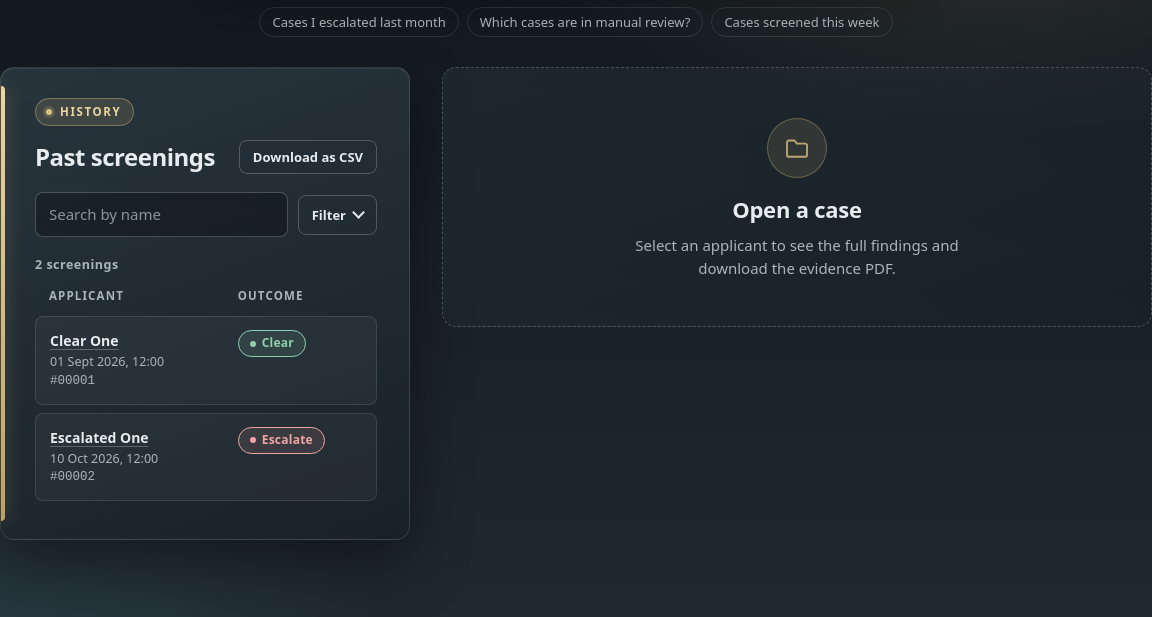
Test case: history layout › keeps every filter inside a collapsible Filter button and narrows the list
expect the button "Clear One" is shown: met, box [50, 330, 118, 352]
expect the button "Not reviewed" is not shown: met
Click the button "Filter": (337, 215) [298, 195, 377, 235]
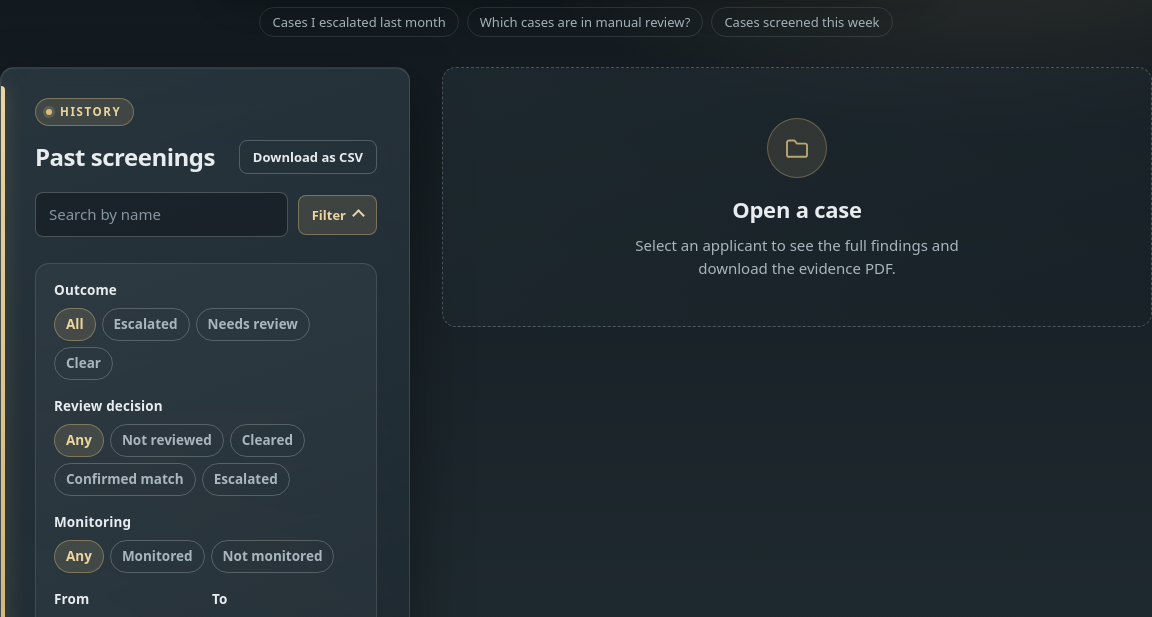
expect the button "Filter" is expanded: met, box [298, 195, 377, 235]
Click the 1st button "Escalated": (146, 325) [102, 308, 190, 341]
(page scrolled)
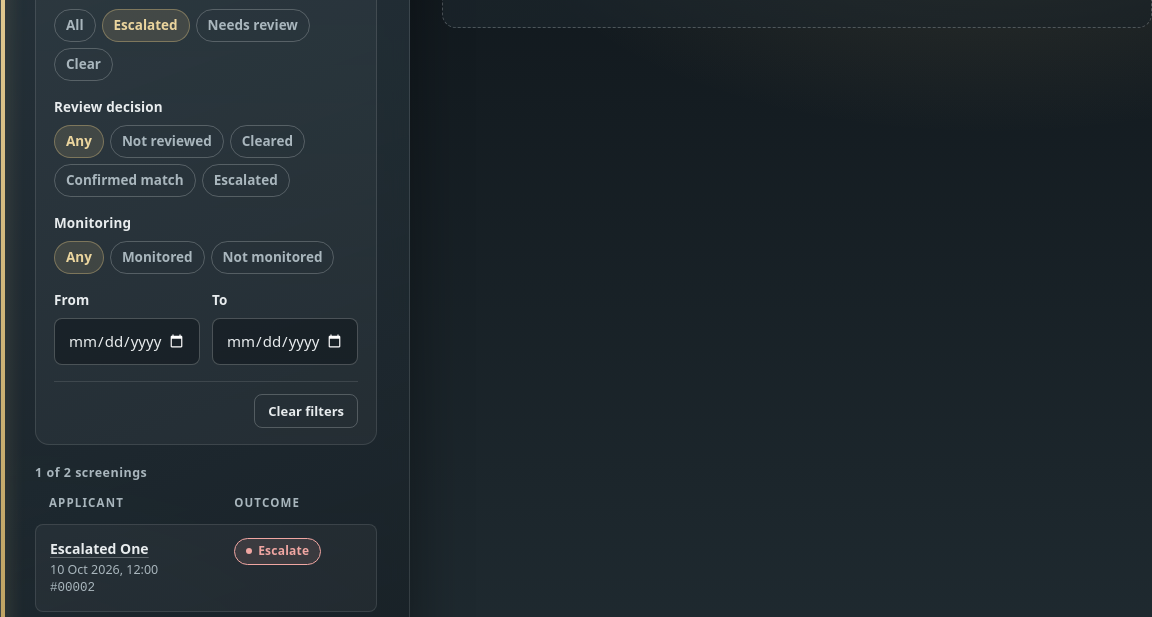
expect the button "Escalated One" is shown: met, box [50, 538, 149, 560]
Click the button "Clear filters": (306, 411) [254, 394, 358, 428]
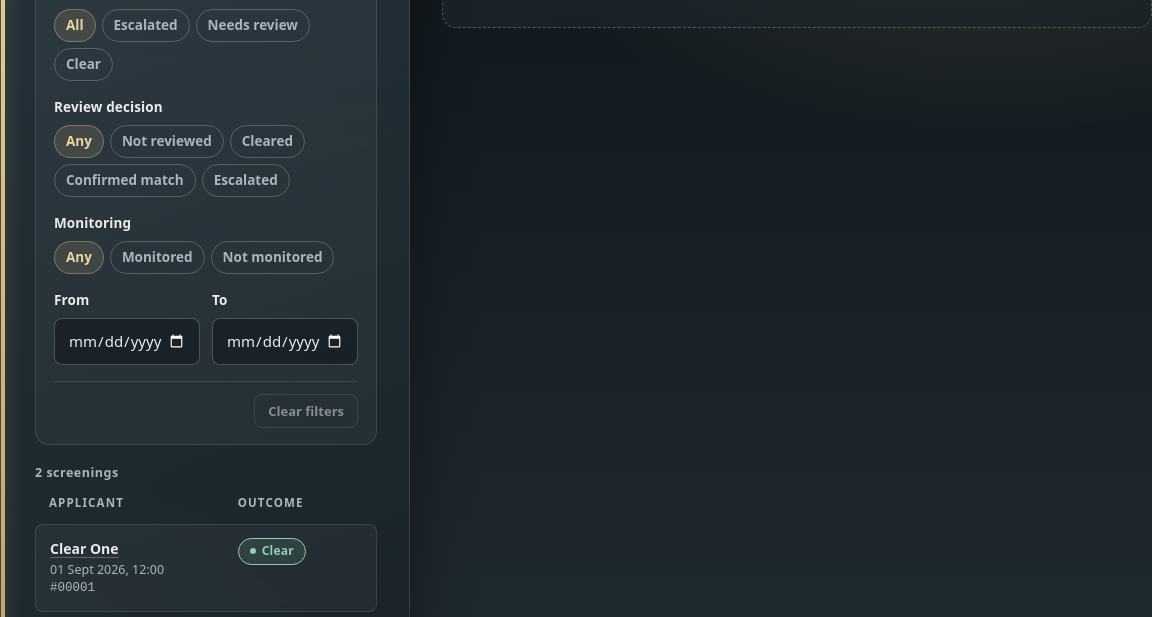
expect the button "Clear One" is shown: met, box [50, 538, 118, 560]
In the date field labelled "From": (127, 341) [54, 318, 200, 365], type "2026-10-01"
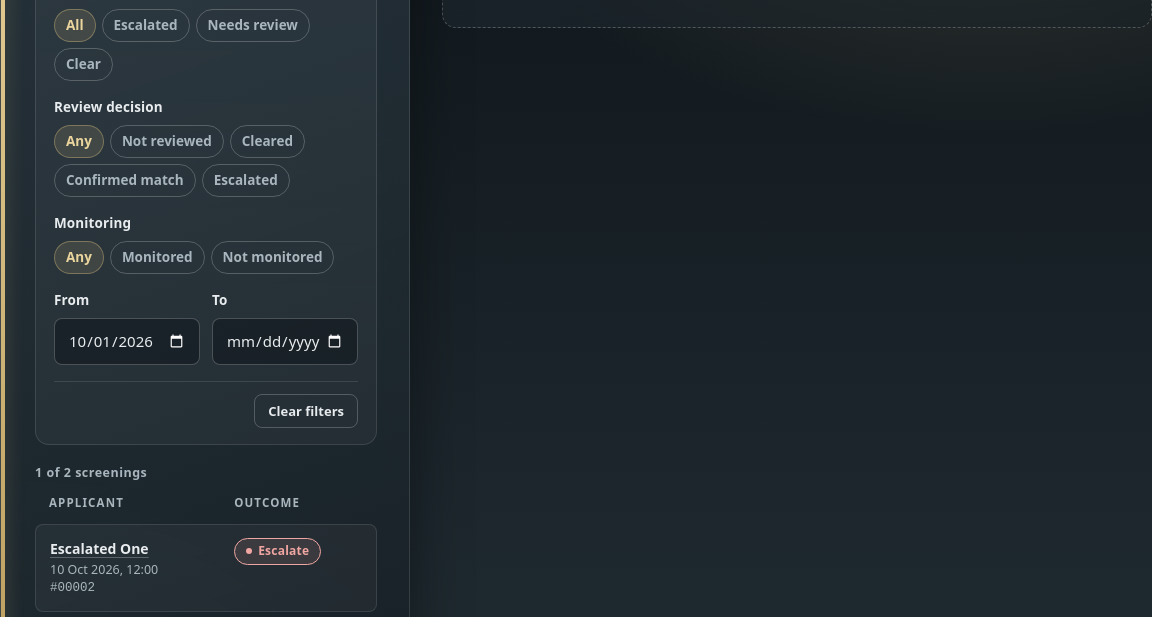
expect the button "Escalated One" is shown: met, box [50, 538, 149, 560]
expect the button "Clear One" is gone: met
